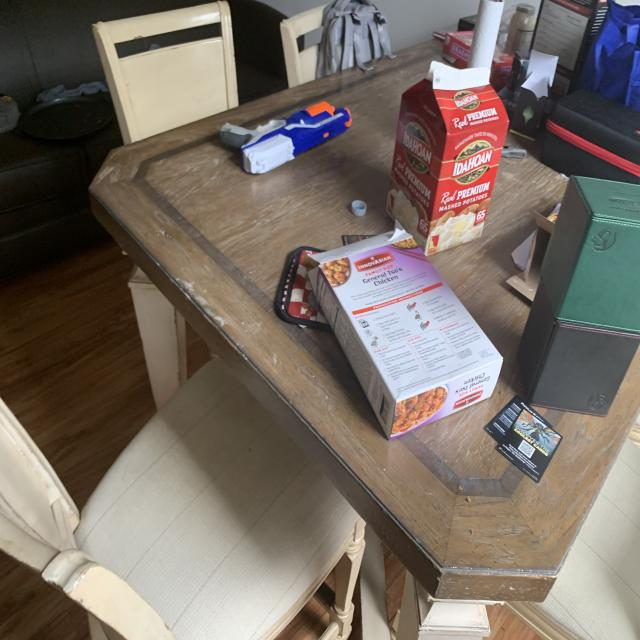nerf-maverik: (215, 99, 359, 180)
